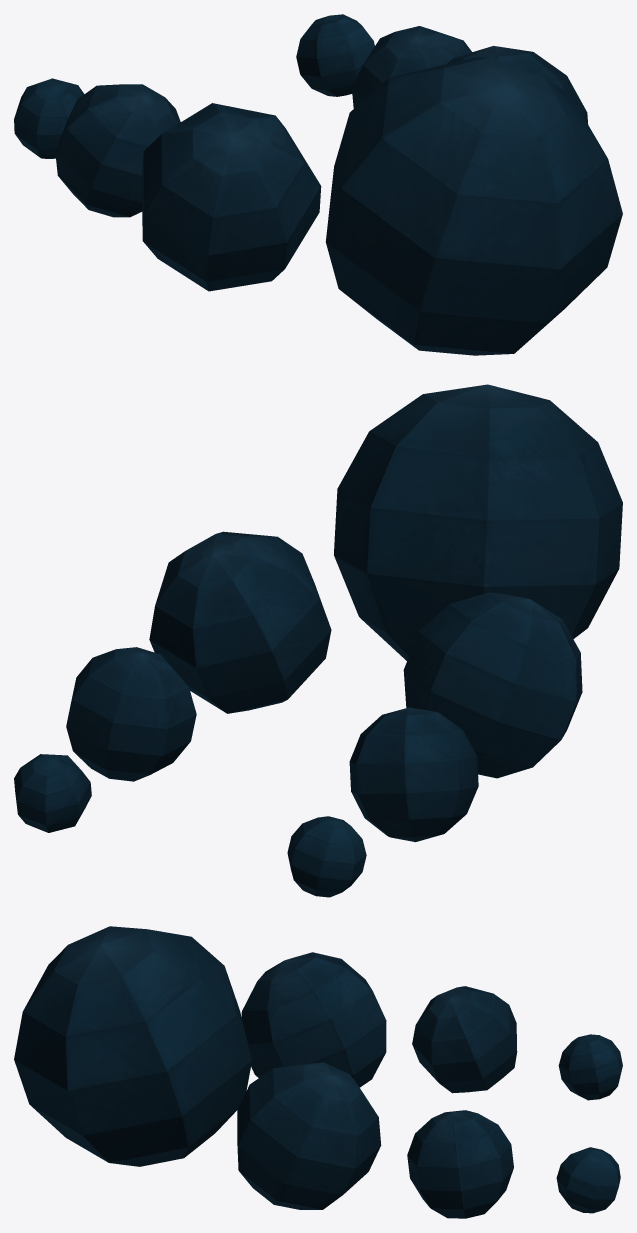
Rendered from Monoliths.fbx.
3 views of the same model, one above another, from view 1: azimuth 30°, elevation 25°; view 2: azimuth 150°, elevation 25°; view 3: azimuth 270°, elevation 25° (orthographic). The views are drawn at different scales.
Parts seen in each view (by area): view 1: Monotlith6, Monotlith3, Monotlith4, Monolith1, Monotlith5, Monotlith2, Monotlith7; view 2: Monotlith6, Monotlith7, Monotlith3, Monotlith4, Monotlith5, Monotlith2, Monolith1; view 3: Monotlith6, Monotlith7, Monotlith3, Monotlith5, Monotlith4, Monotlith2, Monolith1.
Boxes of the visible parts, x1,y1,x2,y2 form: Monotlith6: (325, 57, 622, 355); Monotlith3: (142, 103, 321, 291); Monotlith4: (55, 84, 180, 217); Monolith1: (296, 14, 374, 96); Monotlith5: (352, 26, 471, 108); Monotlith2: (14, 78, 84, 158); Monotlith7: (447, 46, 588, 124); Monotlith6: (334, 384, 622, 660); Monotlith7: (149, 531, 331, 713); Monotlith3: (403, 592, 582, 778); Monotlith4: (349, 707, 478, 842); Monotlith5: (66, 647, 196, 781); Monotlith2: (287, 816, 366, 897); Monolith1: (14, 754, 91, 832); Monotlith6: (14, 926, 251, 1166); Monotlith7: (237, 1062, 381, 1209); Monotlith3: (241, 952, 386, 1087); Monotlith5: (407, 1110, 513, 1218); Monotlith4: (412, 986, 517, 1093); Monotlith2: (558, 1034, 622, 1100); Monolith1: (556, 1147, 620, 1213).
Size of the model in its own units: 9.89 by 6.03 by 15.17.
